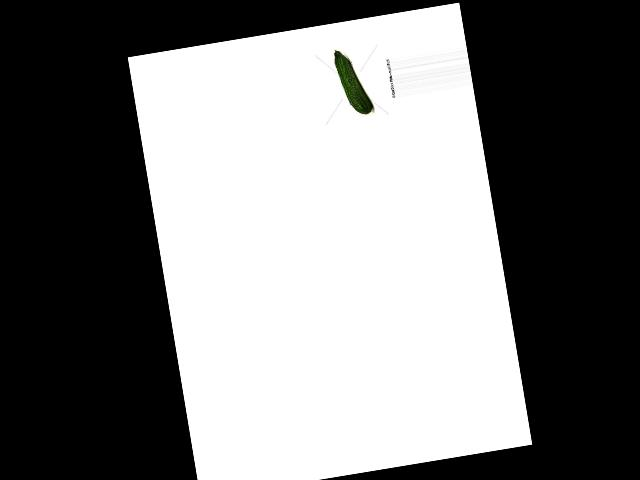cucumber: (333, 45, 373, 117)
